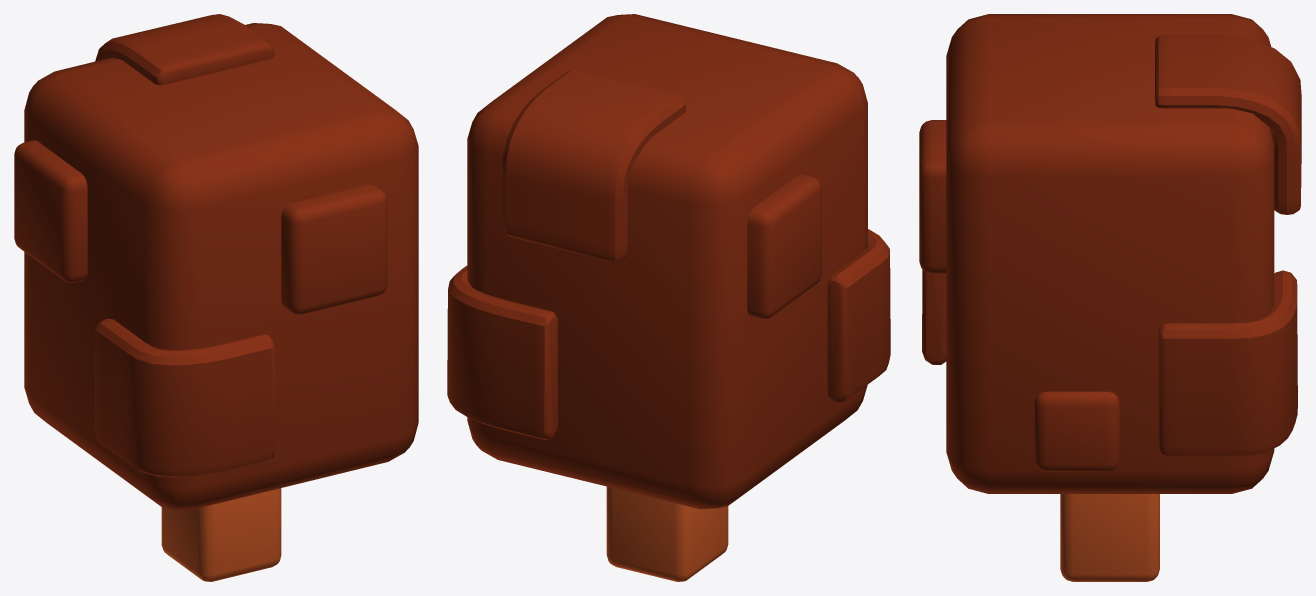
The model's file is tree_fall.fbx.
The picture shows the model from 3 angles, left to right: view 1: azimuth 30°, elevation 25°; view 2: azimuth 150°, elevation 25°; view 3: azimuth 270°, elevation 25°; orthographic projection. The views are drawn at different scales.
Parts seen in each view (by area): view 1: Cube.157; view 2: Cube.157; view 3: Cube.157.
Boxes of the visible parts, x1,y1,x2,y2 form: Cube.157: (14,14,418,581); Cube.157: (447,14,890,581); Cube.157: (919,14,1301,581).
Bounding box in the file's own units: 478 × 490 × 726.
